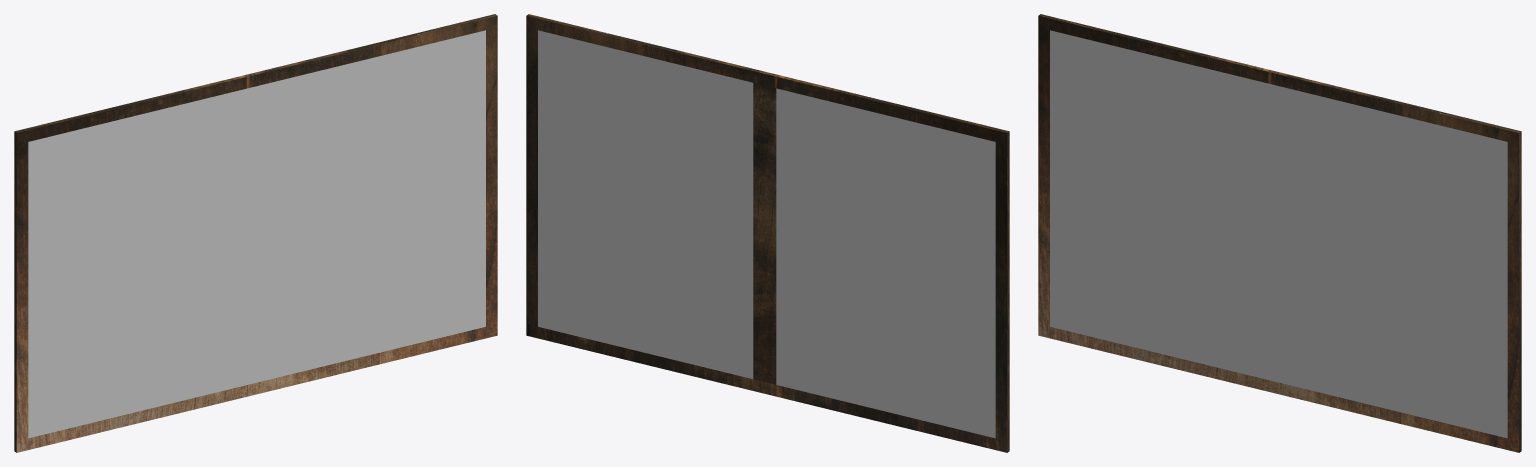
The model's file is Door.fbx.
3 views of the same model, side by side, from view 1: azimuth 30°, elevation 25°; view 2: azimuth 150°, elevation 25°; view 3: azimuth 330°, elevation 25° (orthographic).
Parts seen in each view (by area): view 1: Wall.009; view 2: Wall.009; view 3: Wall.009.
Boxes of the visible parts, x1,y1,x2,y2 form: Wall.009: (14, 14, 497, 452); Wall.009: (526, 14, 1009, 452); Wall.009: (1038, 14, 1521, 452).
Size of the model in its own units: 651 by 414 by 5.48.
